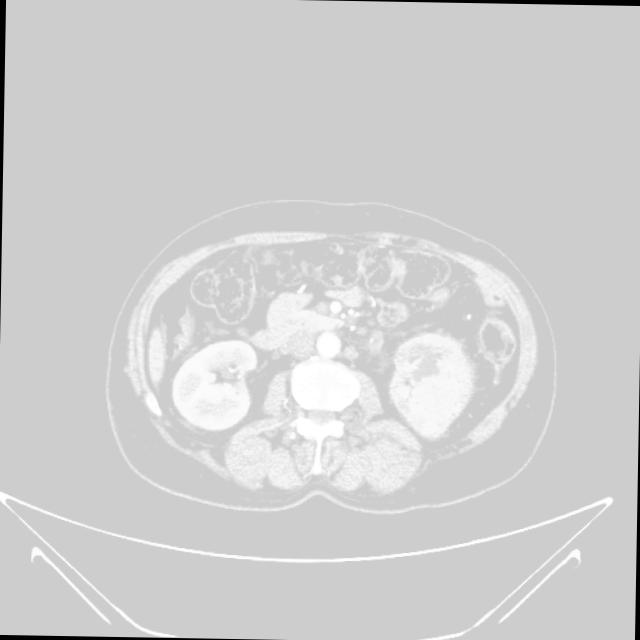TUMOR: (236, 306, 506, 442)
